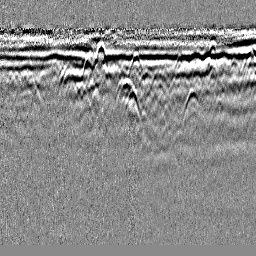cavity: (114, 77, 142, 118)
